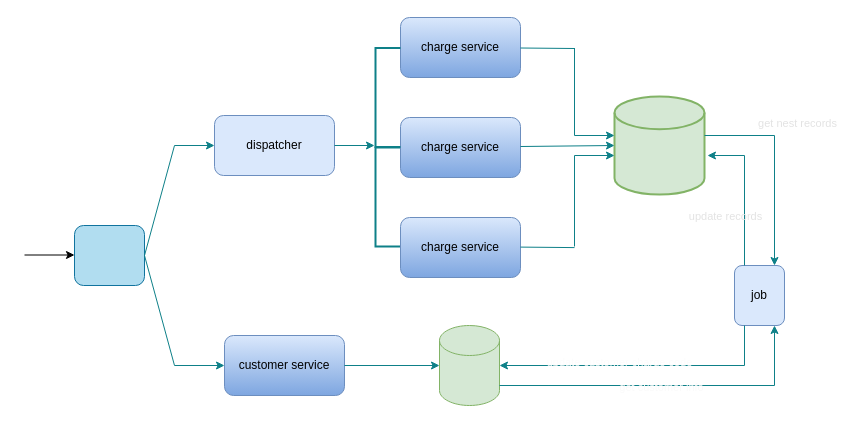
Image size: 854x423. Some labels were removed from this diagram. The shapes that lost their labels are listed below. From the top down, each one's centre as x and y in pixels, then its label:
At (659,145): "Temp DB".
At (109,255): "gateway".
At (469,365): "customer DB".
